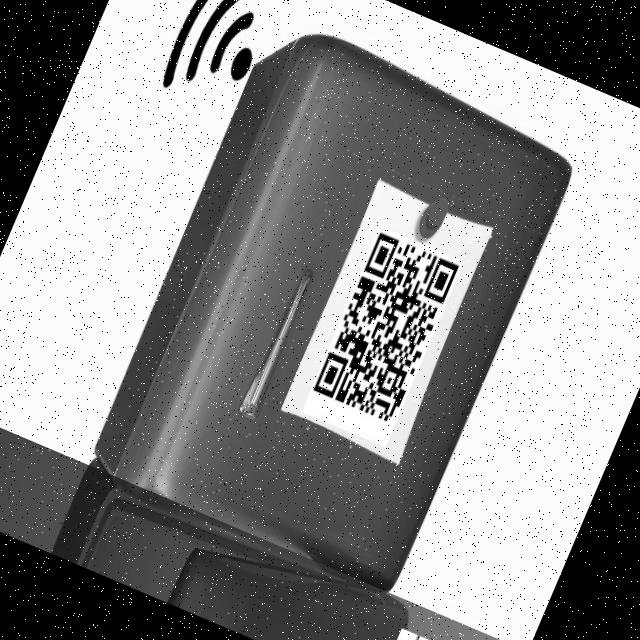QR-codes: (311, 230, 461, 428)
